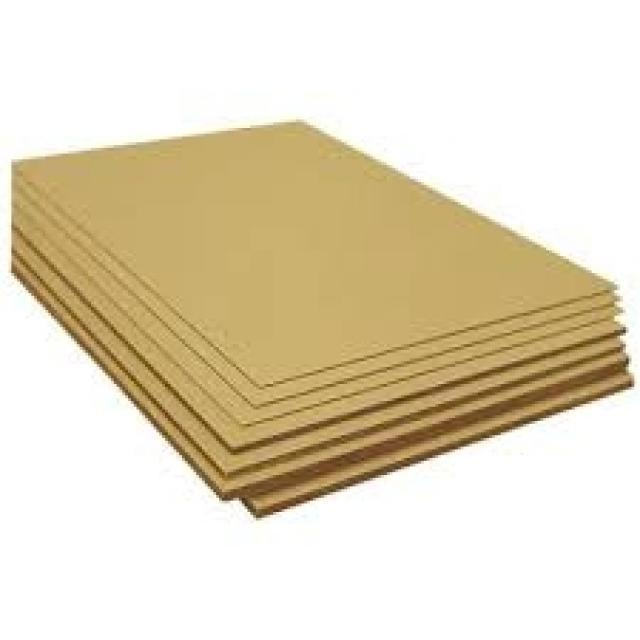cardboard paper: (11, 121, 630, 513)
